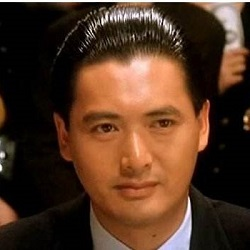unmask: (57, 47, 199, 227)
